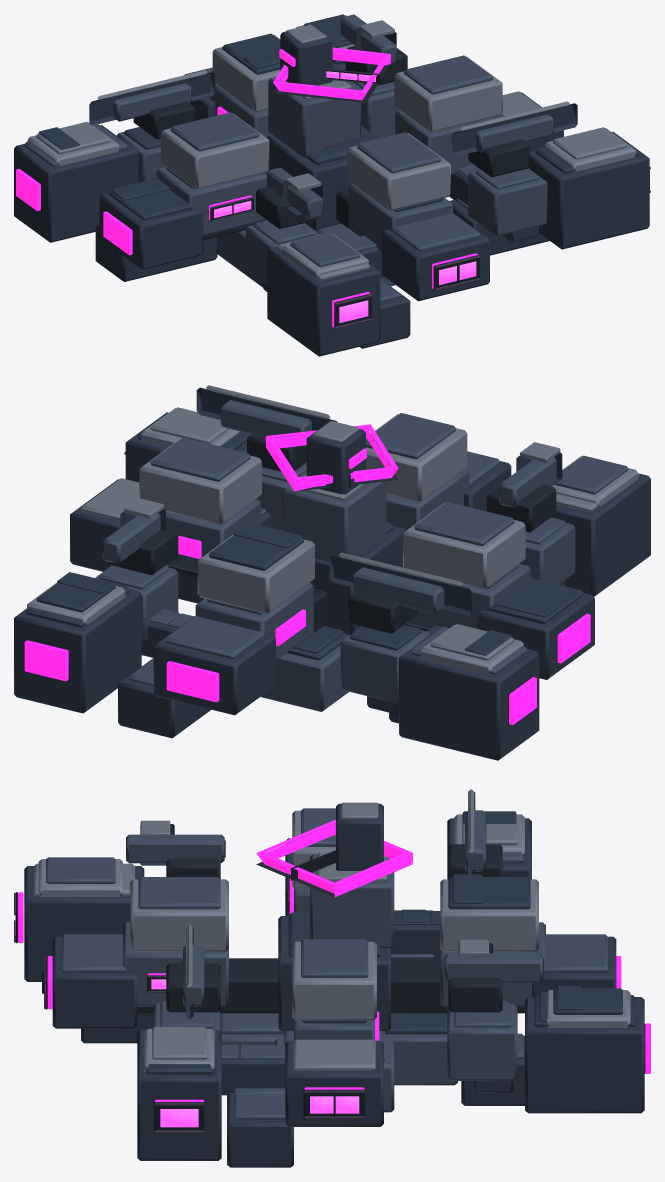
The model's file is 04_zitadelle.glb.
3 views of the same model, one above another, from view 1: azimuth 30°, elevation 25°; view 2: azimuth 150°, elevation 25°; view 3: azimuth 270°, elevation 25° (orthographic). The views are drawn at different scales.
Visible parts, largest first — view 1: Hull, weapon_3, weapon_5, weapon_4, weapon_2; view 2: Hull, weapon_3, weapon_5, weapon_4, weapon_2; view 3: Hull, weapon_4, weapon_2, weapon_5, weapon_3.
Boxes of the visible parts, x1=… form: Hull: x1=14, y1=14, x2=650, y2=356; weapon_3: x1=89, y1=70, x2=215, y2=125; weapon_5: x1=451, y1=101, x2=577, y2=156; weapon_4: x1=267, y1=167, x2=322, y2=218; weapon_2: x1=340, y1=14, x2=396, y2=63; Hull: x1=14, y1=407, x2=650, y2=760; weapon_3: x1=329, y1=552, x2=471, y2=615; weapon_5: x1=196, y1=385, x2=337, y2=446; weapon_4: x1=499, y1=442, x2=562, y2=507; weapon_2: x1=102, y1=498, x2=165, y2=563; Hull: x1=14, y1=802, x2=650, y2=1167; weapon_4: x1=126, y1=820, x2=225, y2=865; weapon_2: x1=444, y1=939, x2=543, y2=982; weapon_5: x1=183, y1=924, x2=204, y2=1019; weapon_3: x1=465, y1=789, x2=486, y2=874.
Size of the model in its own units: 40.26 by 17.06 by 40.26.
